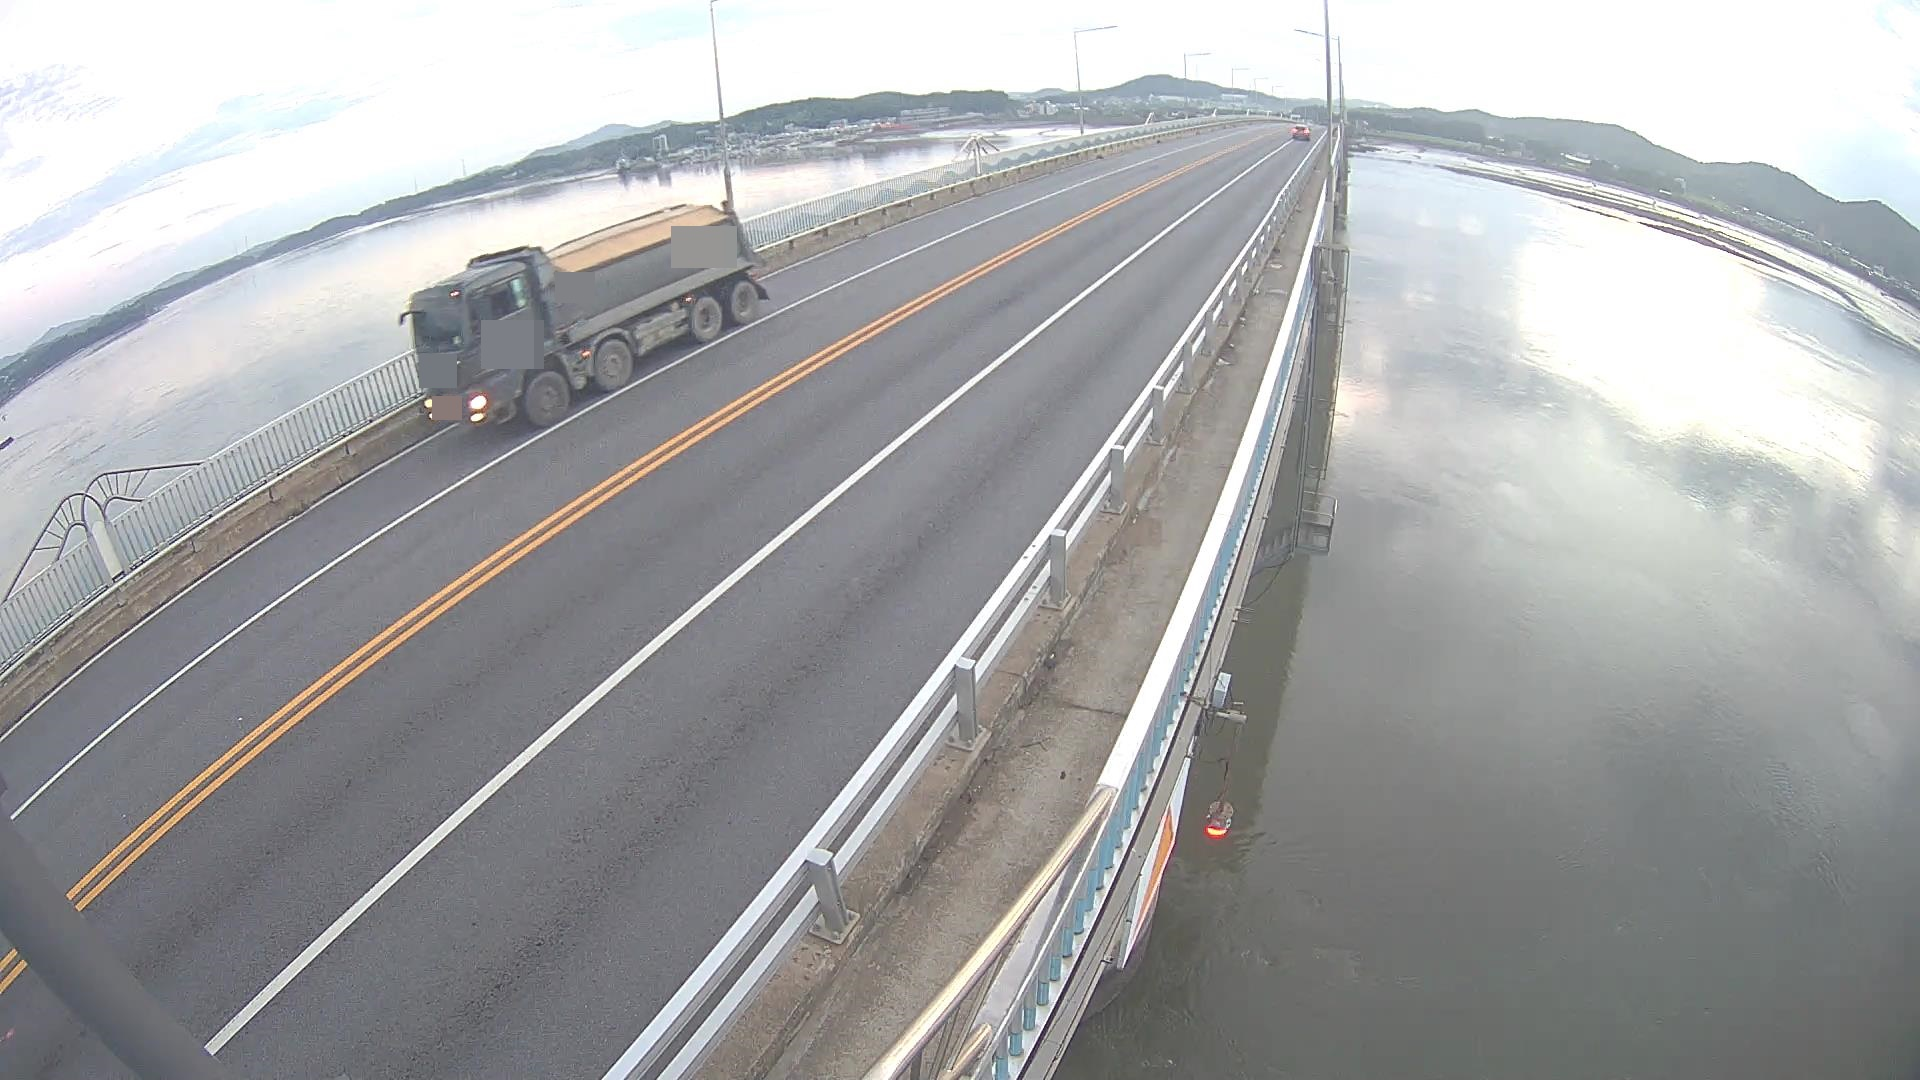정상차량: (397, 200, 769, 427)
